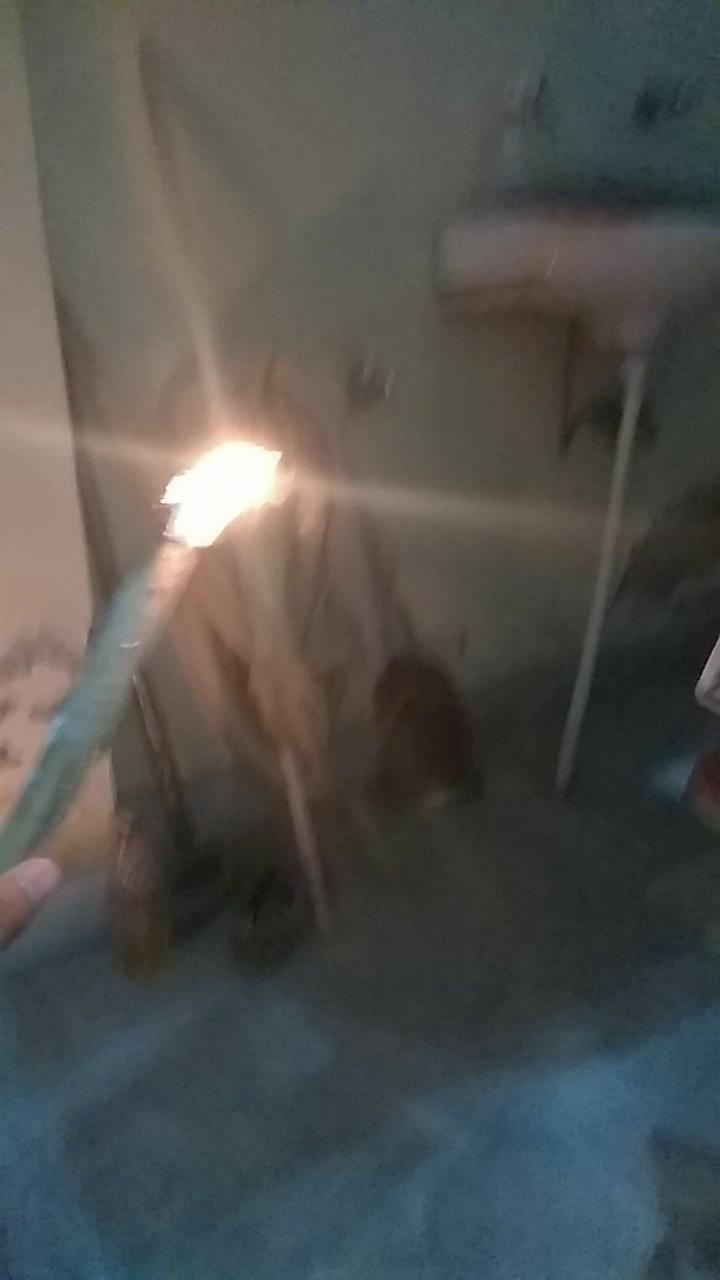fire: (158, 418, 285, 547)
